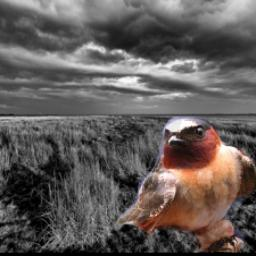Swallow: (117, 117, 256, 252)
